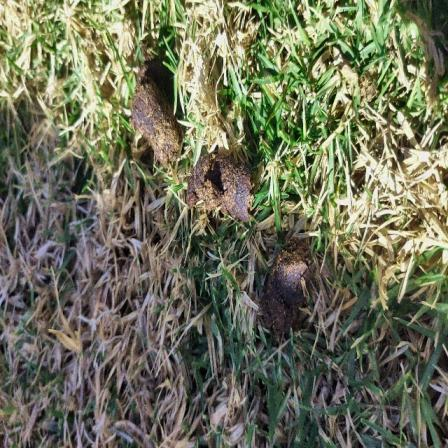dog-poop: (123, 77, 258, 232), (257, 241, 318, 336)
